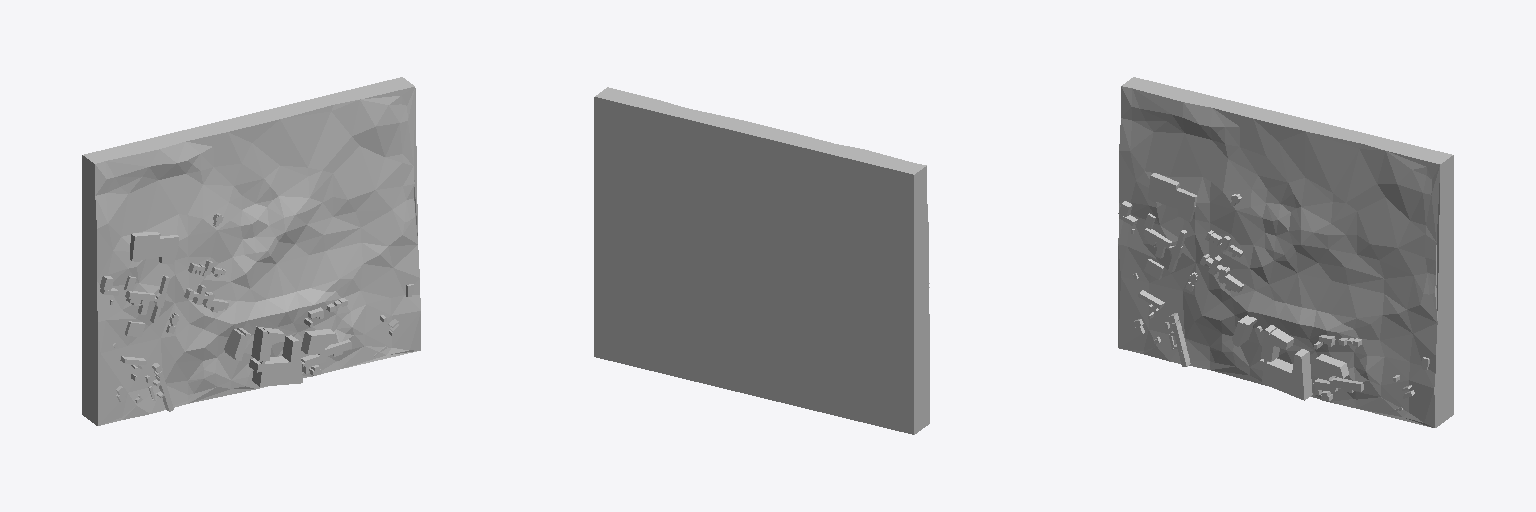
The model's file is TUD_Campus2 v7.obj.
3 renders of one model, left to right at view 1: azimuth 30°, elevation 25°; view 2: azimuth 150°, elevation 25°; view 3: azimuth 330°, elevation 25°, orthographic.
Parts seen in each view (by area): view 1: Body120, MeshBody1 (42), MeshBody1 (25), MeshBody1 (50), MeshBody1 (49), MeshBody1 (37), MeshBody1 (58), MeshBody1 (35); view 2: Body120; view 3: Body120, MeshBody1 (42), MeshBody1 (25), MeshBody1 (50), MeshBody1 (49), MeshBody1 (37), MeshBody1 (58).
Part boxes in pixels (x1,y1,x2,y2): Body120: (82, 77, 420, 425); MeshBody1 (42): (249, 326, 302, 386); MeshBody1 (25): (130, 232, 178, 264); MeshBody1 (50): (125, 275, 169, 323); MeshBody1 (49): (301, 329, 338, 354); MeshBody1 (37): (184, 284, 228, 312); MeshBody1 (58): (301, 339, 351, 373); MeshBody1 (35): (224, 328, 250, 360); Body120: (594, 87, 929, 434); Body120: (1118, 77, 1453, 427); MeshBody1 (42): (1259, 325, 1312, 400); MeshBody1 (25): (1148, 173, 1197, 221); MeshBody1 (50): (1143, 228, 1186, 272); MeshBody1 (49): (1312, 354, 1348, 380); MeshBody1 (37): (1200, 254, 1243, 292); MeshBody1 (58): (1312, 377, 1363, 395).
Size of the model in its own units: 80.69 by 62.76 by 11.88.